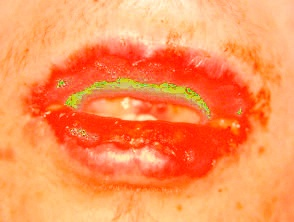SJS-TEN: (15, 26, 291, 201)
